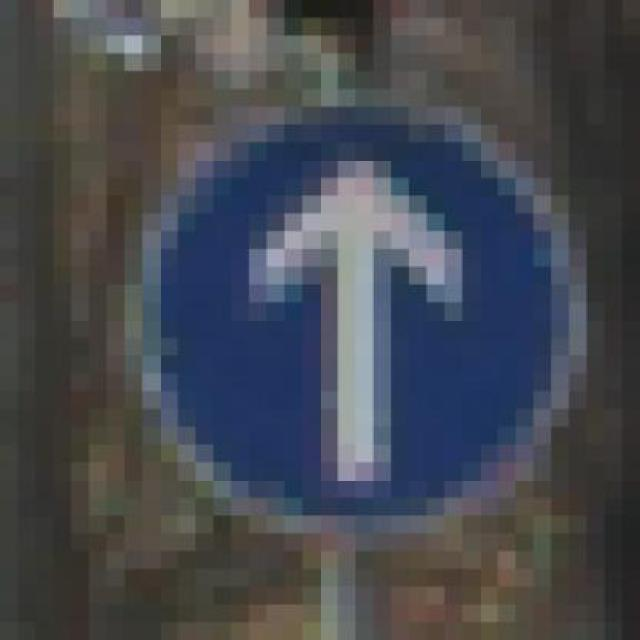Straight Ahead Only: (125, 71, 604, 534)
